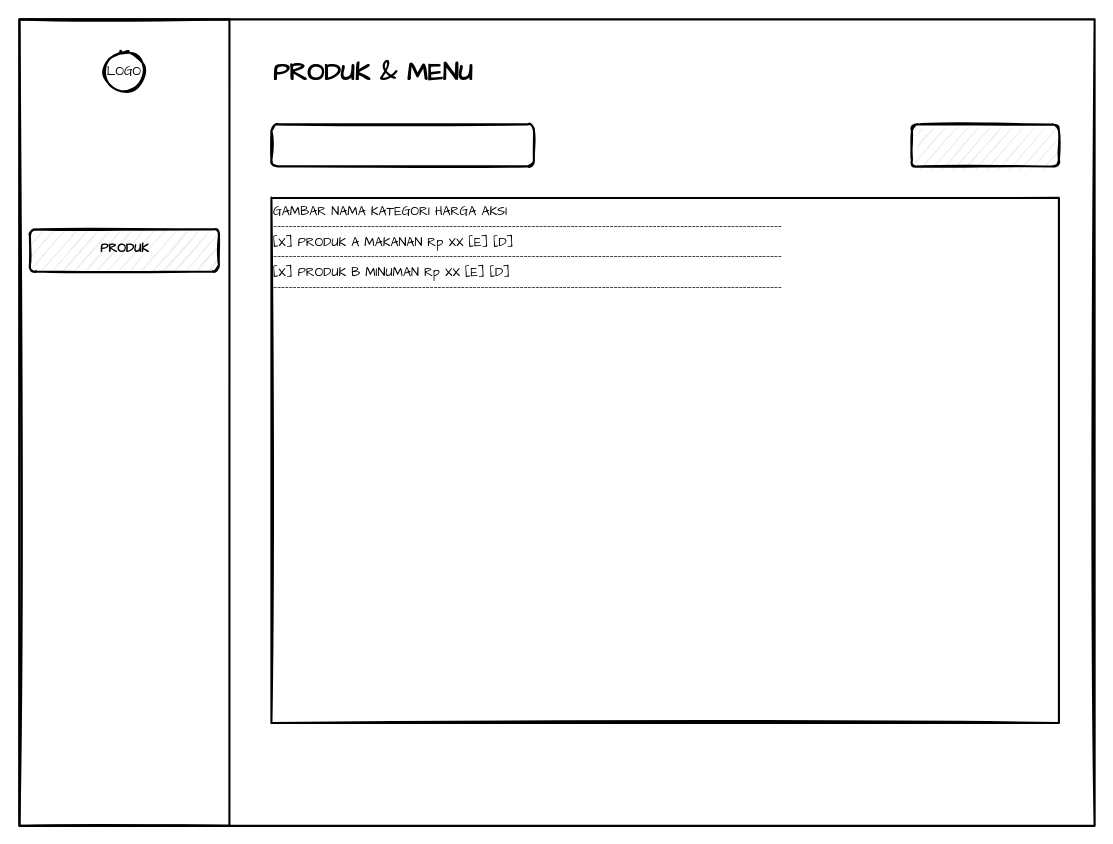
The diagram is 1113 pixels wide and 844 high, and some of its shapes have lost their labels. Here are the shapes that lost their labels. From the top down, the centre of each, then its label:
point (402, 145): CARI PRODUK...
point (984, 145): + TAMBAH
